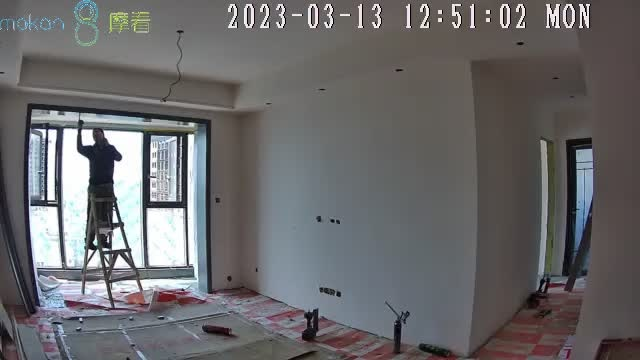people: (77, 120, 123, 251)
window: (29, 105, 193, 270)
